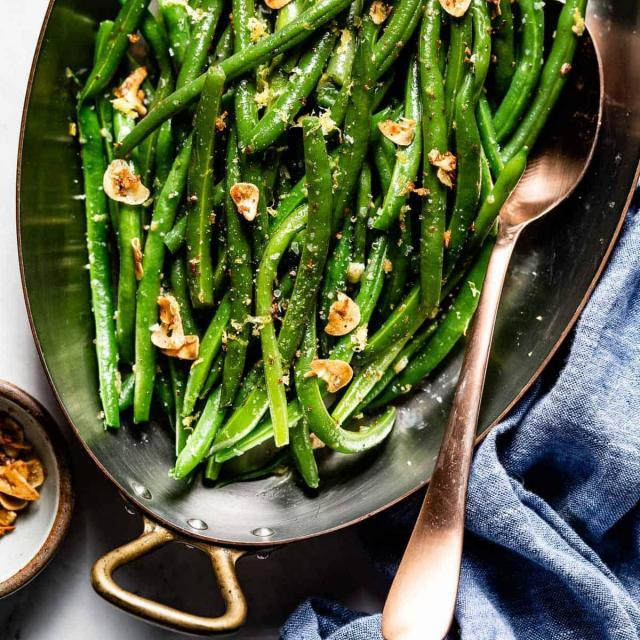Beans: (55, 0, 600, 502)
